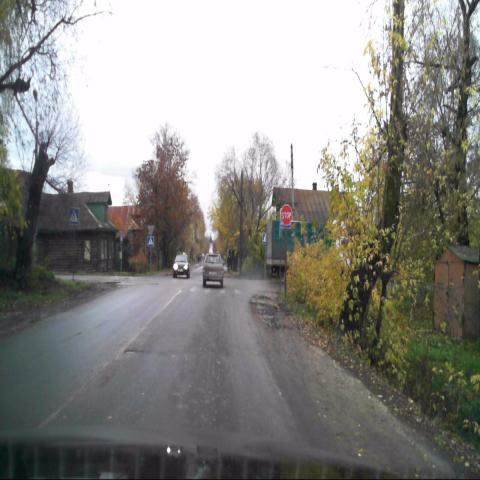2_5: (280, 206, 292, 226)
